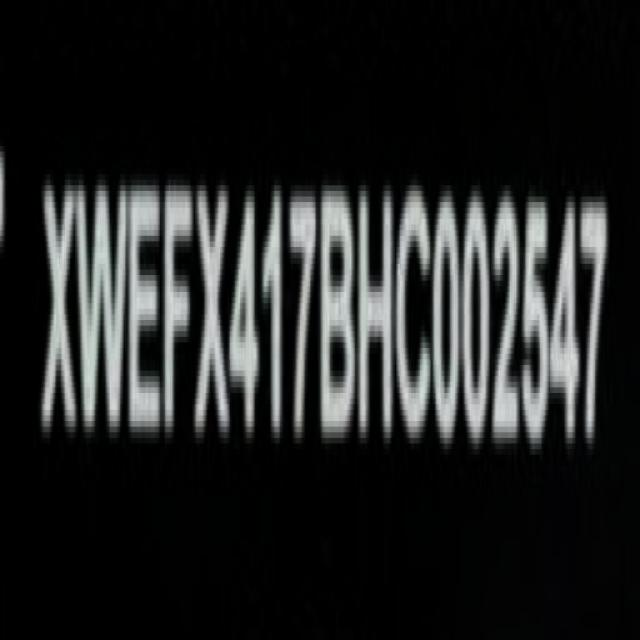0: (462, 176, 493, 458), (432, 183, 462, 454)
1: (259, 173, 288, 451)
2: (492, 184, 524, 459)
4: (550, 182, 583, 461), (227, 179, 260, 456)
5: (520, 183, 552, 462)
7: (288, 176, 322, 456), (581, 184, 613, 462)
B: (320, 176, 358, 454)
C: (395, 178, 435, 456)
E: (127, 174, 165, 450)
F: (160, 172, 198, 456)
H: (356, 176, 398, 451)
W: (74, 166, 132, 452)
X: (35, 168, 79, 454), (194, 171, 234, 456)
